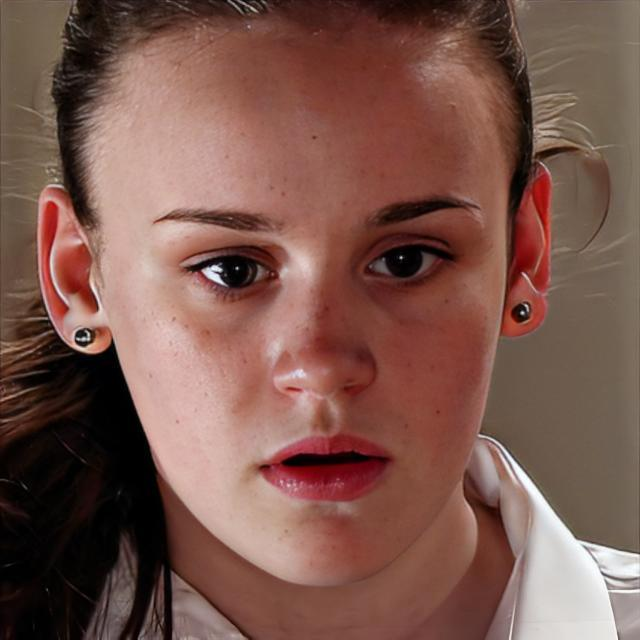surprise: (111, 0, 508, 588)
